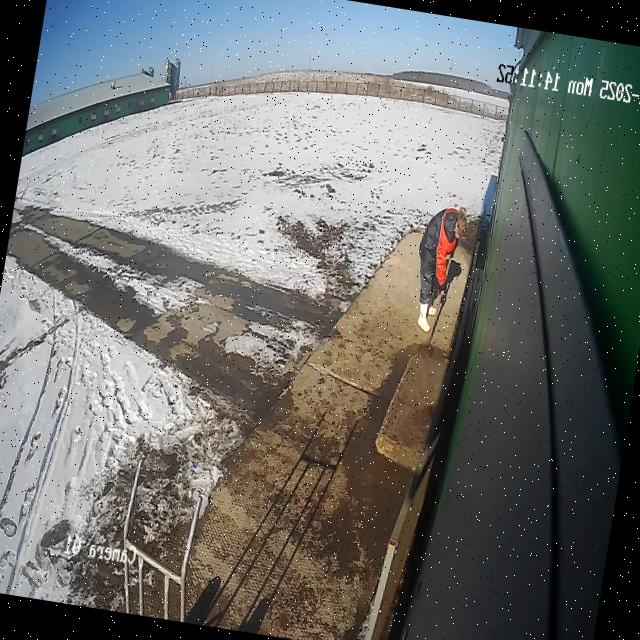Red uniform: (405, 200, 472, 340)
